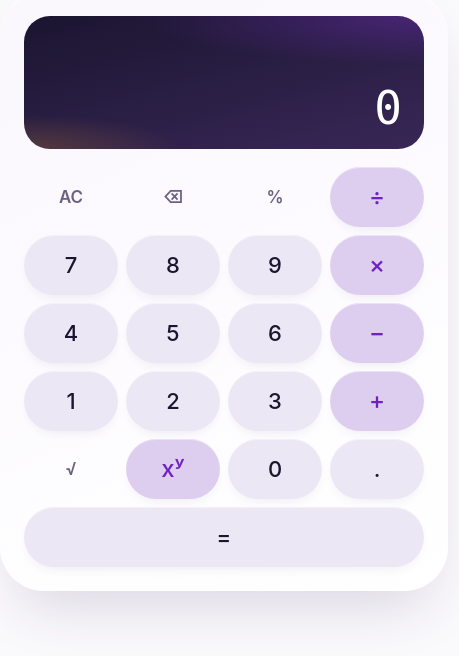
it: Calculator › shows the backend error message and does not advance on division by zero
This screenshot has width=459, height=656.
Click the button "1" at (71, 401), box [24, 371, 118, 431]
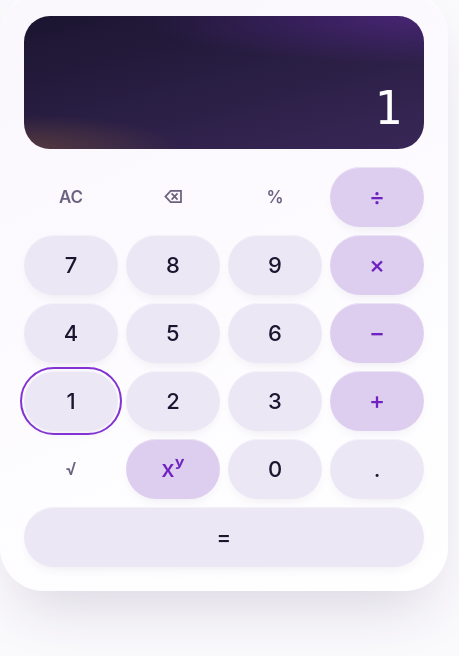
Click the button named "Divide" at (377, 197), box [330, 167, 424, 227]
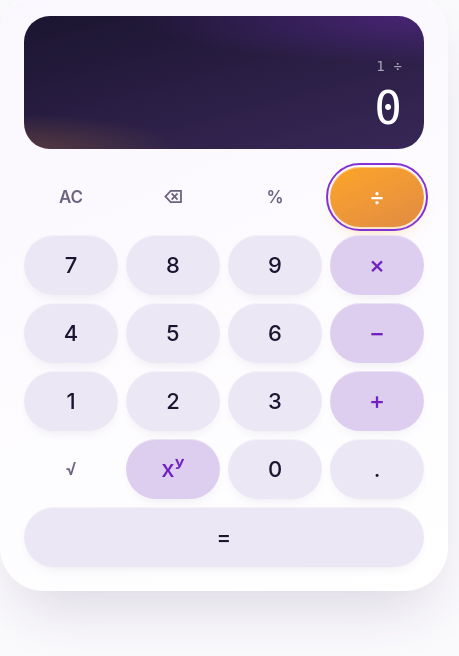
Click the button "0" at (275, 469), box [228, 439, 322, 499]
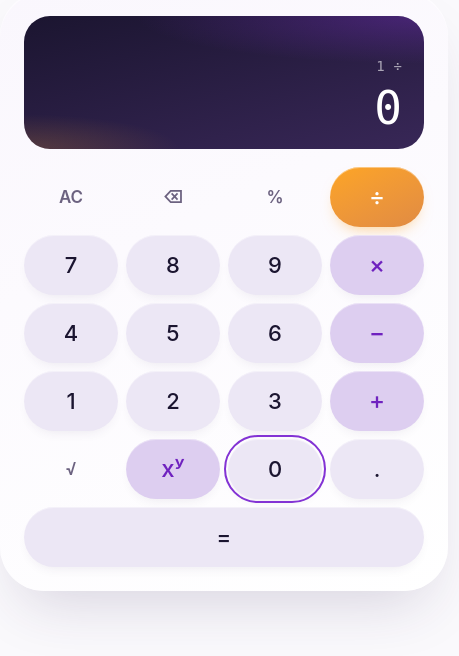
Click the button "=" at (224, 537), box [24, 507, 424, 567]
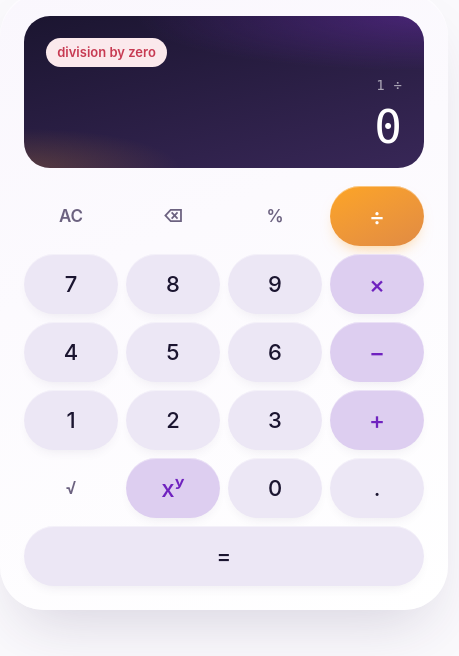
Expected: the text with test id "calculator-display" reads "0", [374, 100, 402, 154]
Expected: the message reads "division by zero", [57, 44, 156, 60]
